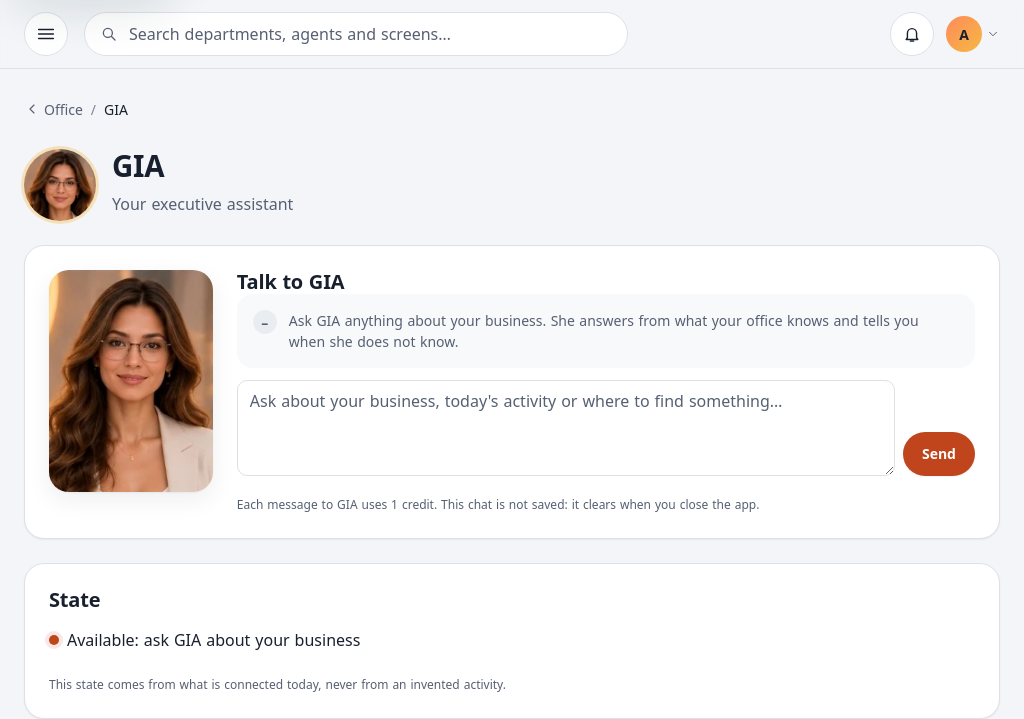
Test: GIA prepares a task for an agent (AE-3) › sends nothing until the person confirms, then sends it once, as edited
Replace the text in the text box named "Your message to GIA" with "Pídele a Lucía una propuesta de catering" at (566, 428), box [237,380,895,476]
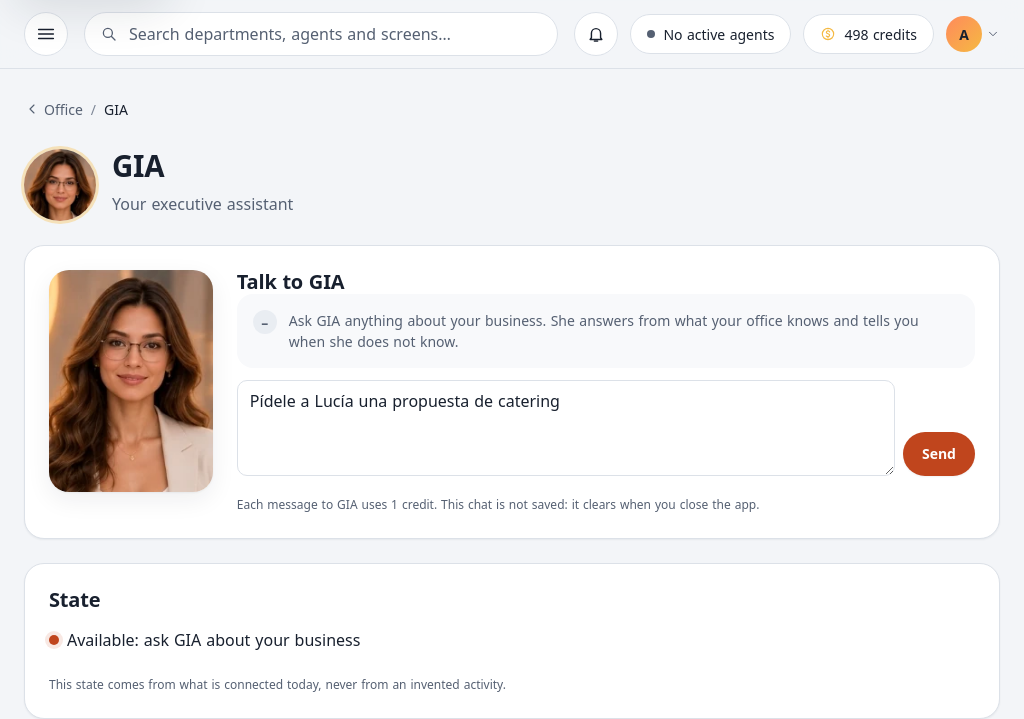
Click the button "Send" at (939, 454), box [903,432,975,476]
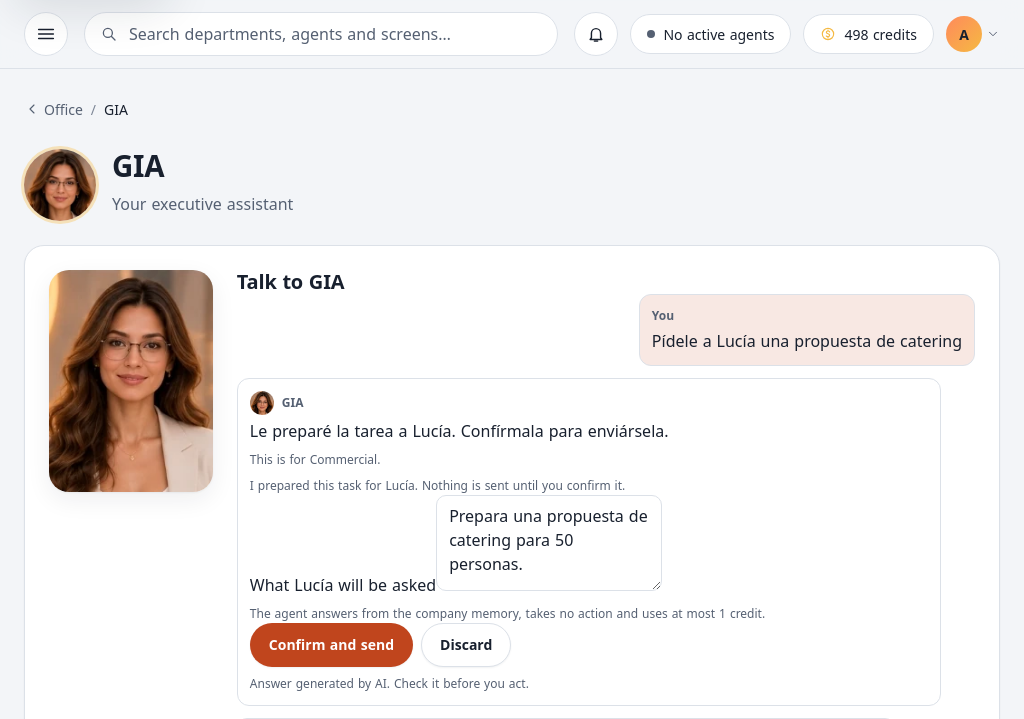
Check: the text "I prepared this task for Lucía. Nothing is sent until you confirm it." is shown, box [250,477,625,494]
Check: the text box labelled "What Lucía will be asked" holds "Prepara una propuesta de catering para 50 personas."
Replace the text in the text box labelled "What Lucía will be asked" with "Prepara una propuesta de catering para 60 personas." at (549, 543), box [436,495,662,591]
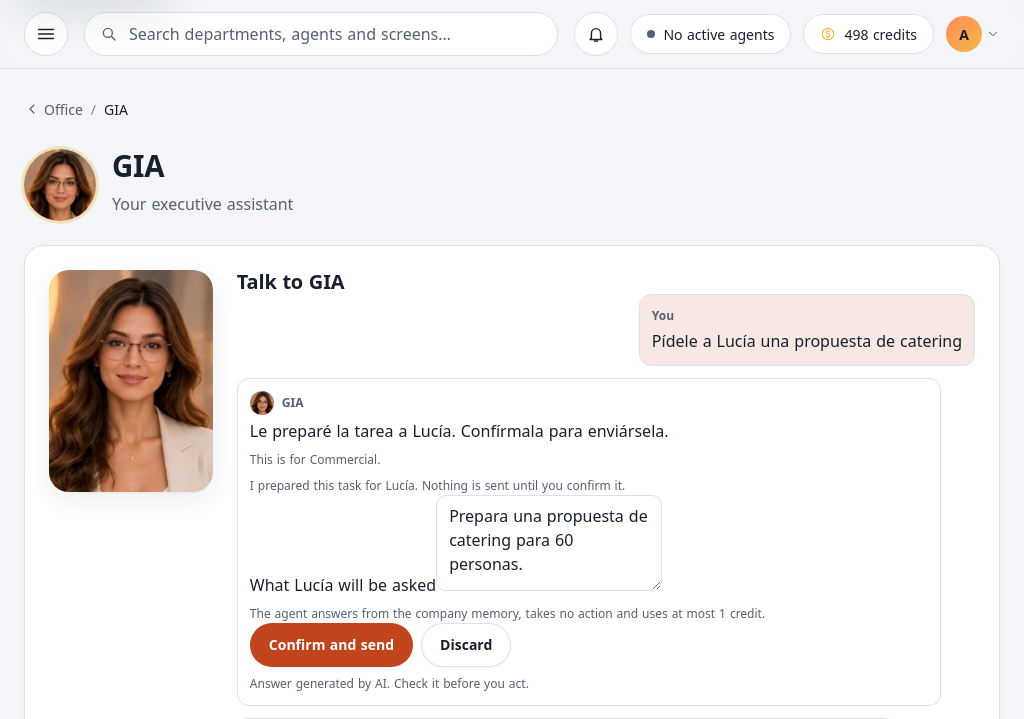
Click the button "Confirm and send" at (331, 645), box [250,623,413,667]
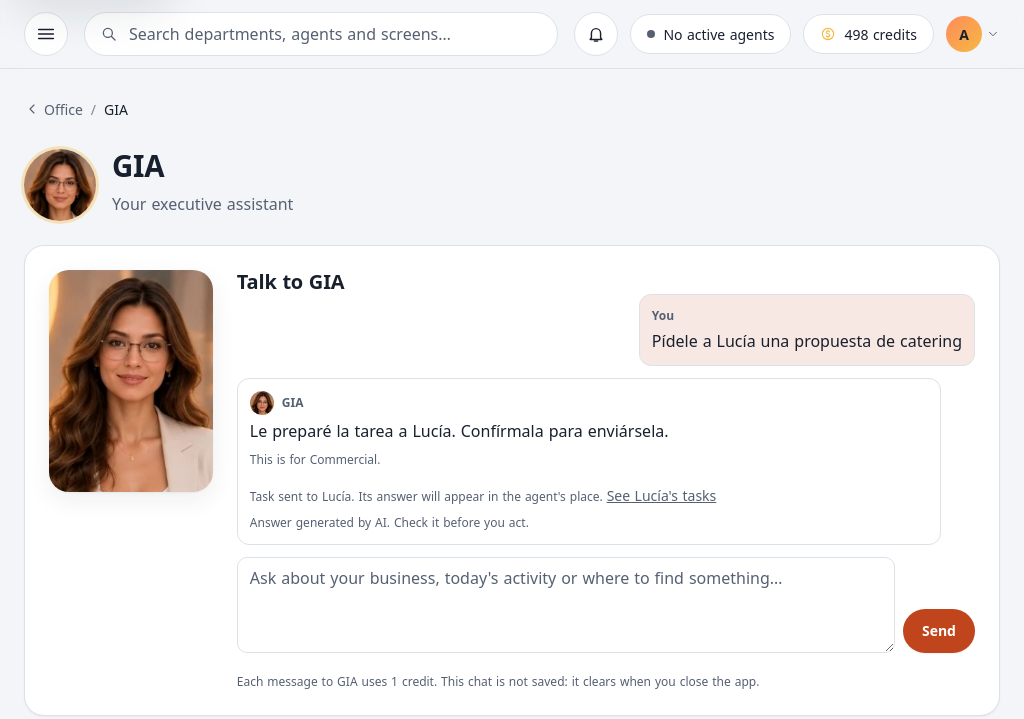
Check: the text "Task sent to Lucía. Its answer will appear in the agent's place." is shown, box [250,488,603,505]
